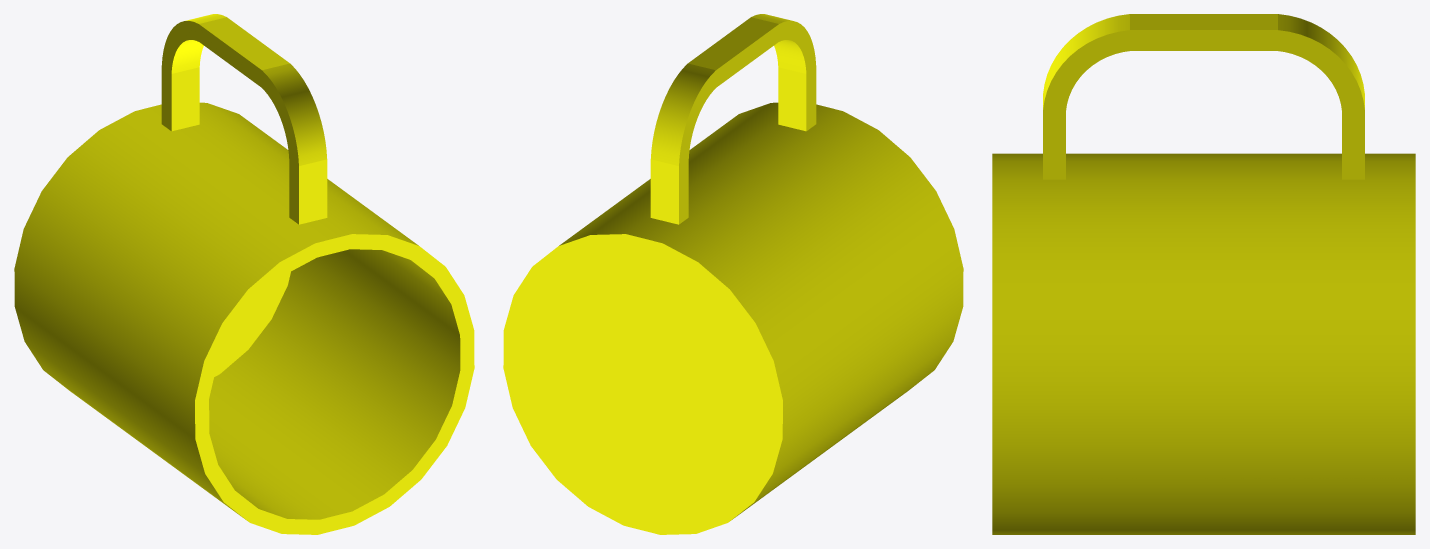
File: model_scale.obj
3 views of the same model, side by side, from view 1: azimuth 30°, elevation 25°; view 2: azimuth 150°, elevation 25°; view 3: azimuth 270°, elevation 25° (orthographic). The views are drawn at different scales.
Visible parts, largest first — view 1: mesh1_mesh1-geometry, mesh2_mesh2-geometry; view 2: mesh1_mesh1-geometry, mesh2_mesh2-geometry; view 3: mesh1_mesh1-geometry, mesh2_mesh2-geometry.
Part boxes in pixels (x1,y1,x2,y2): mesh1_mesh1-geometry: [14, 102, 474, 534]; mesh2_mesh2-geometry: [161, 14, 327, 224]; mesh1_mesh1-geometry: [503, 102, 963, 534]; mesh2_mesh2-geometry: [650, 14, 816, 224]; mesh1_mesh1-geometry: [992, 153, 1415, 534]; mesh2_mesh2-geometry: [1043, 14, 1364, 179].
Bounding box in the file's own units: 0.0835 × 0.1201 × 0.0934.
